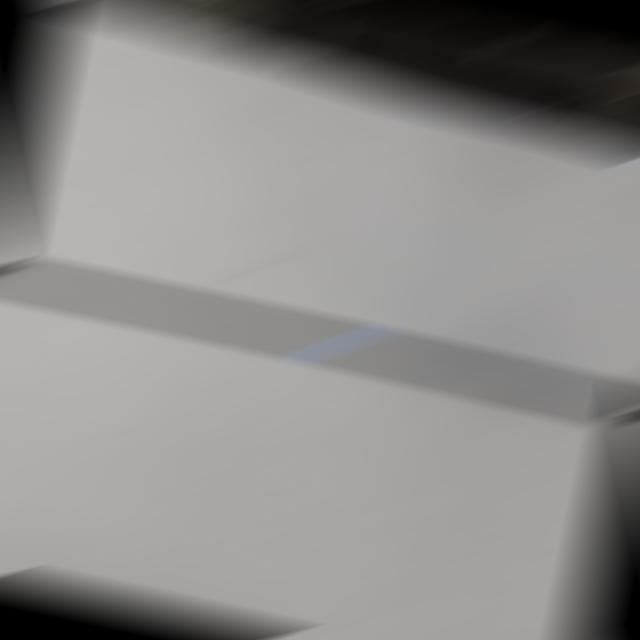blue: (315, 340, 373, 348)
